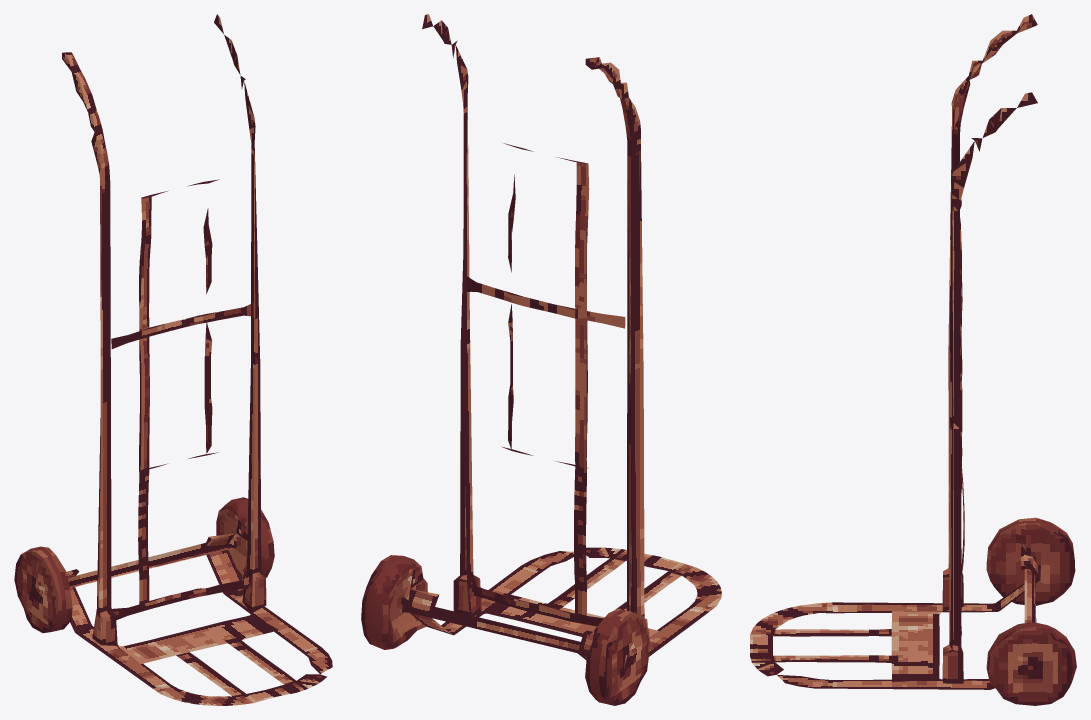
The model's file is hand_truck.glb.
The picture shows the model from 3 angles, left to right: view 1: azimuth 30°, elevation 25°; view 2: azimuth 150°, elevation 25°; view 3: azimuth 270°, elevation 25°; orthographic projection. The views are drawn at different scales.
Parts seen in each view (by area): view 1: mesh; view 2: mesh; view 3: mesh.
Part boxes in pixels (bbox=[...]): mesh: bbox=[14, 14, 332, 705]; mesh: bbox=[361, 14, 721, 705]; mesh: bbox=[750, 14, 1076, 705].
Size of the model in its own units: 0.5692 by 1.4 by 0.6937.
1 material, 1 textured.
